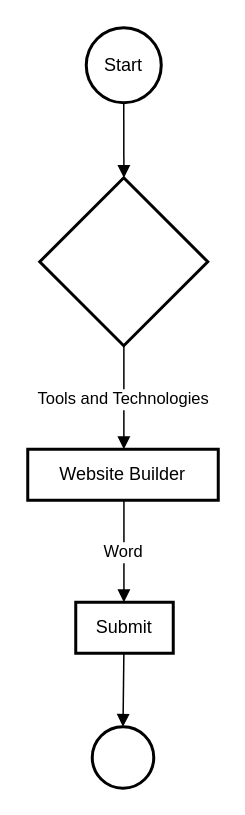
Some shapes in this 245 by 815 pixel diagram are drawn without their labels. Each missing label, with the centre of its shape:
Category: point 123,261
End: point 122,756
